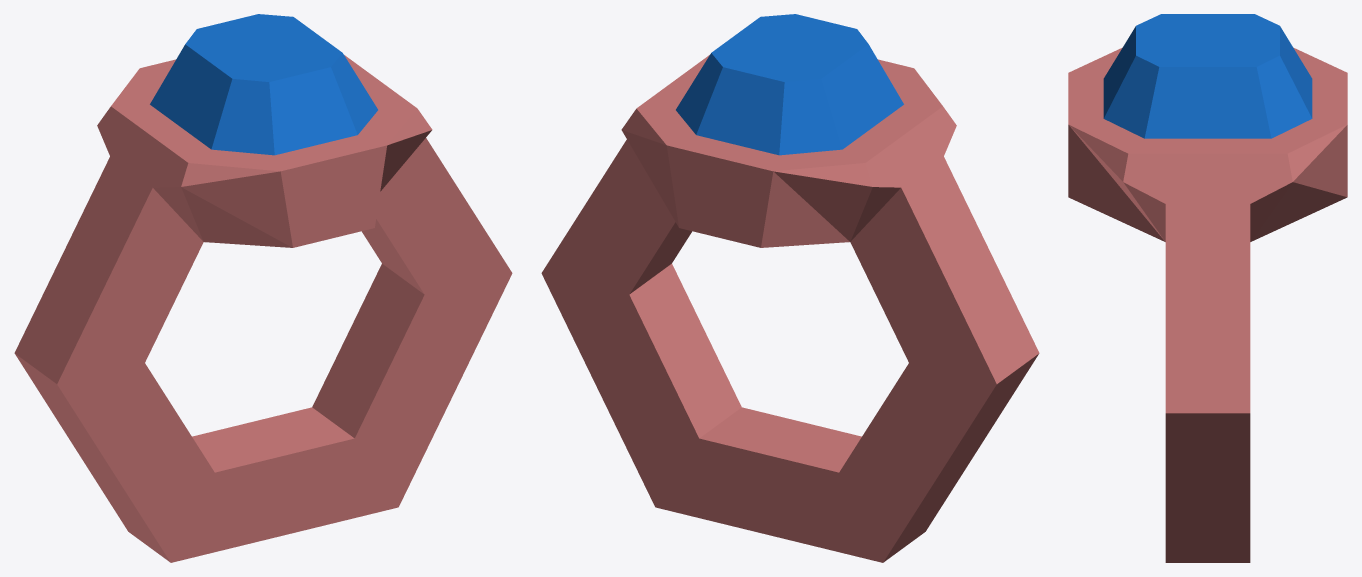
The model's file is SM_ring_5.fbx.
The picture shows the model from 3 angles, left to right: view 1: azimuth 30°, elevation 25°; view 2: azimuth 150°, elevation 25°; view 3: azimuth 270°, elevation 25°; orthographic projection.
Visible parts, largest first — view 1: Tube_3; view 2: Tube_3; view 3: Tube_3.
Boxes of the visible parts, x1,y1,x2,y2 form: Tube_3: (14,14,512,562); Tube_3: (541,14,1039,562); Tube_3: (1068,14,1347,562).
Bounding box in the file's own units: 3.39 × 3.35 × 1.81.
